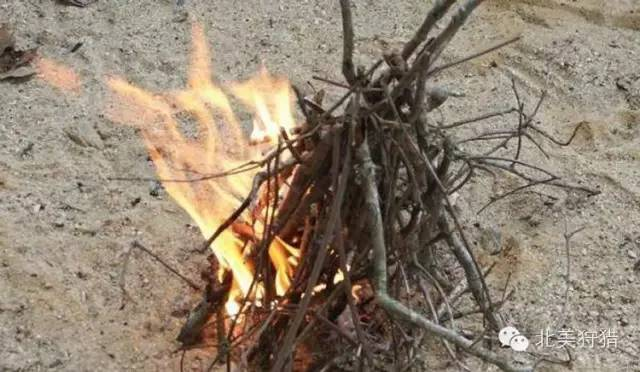wood_together: (243, 30, 510, 357)
